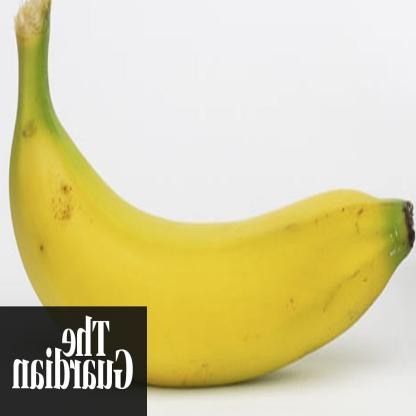banana: (7, 89, 416, 396)
